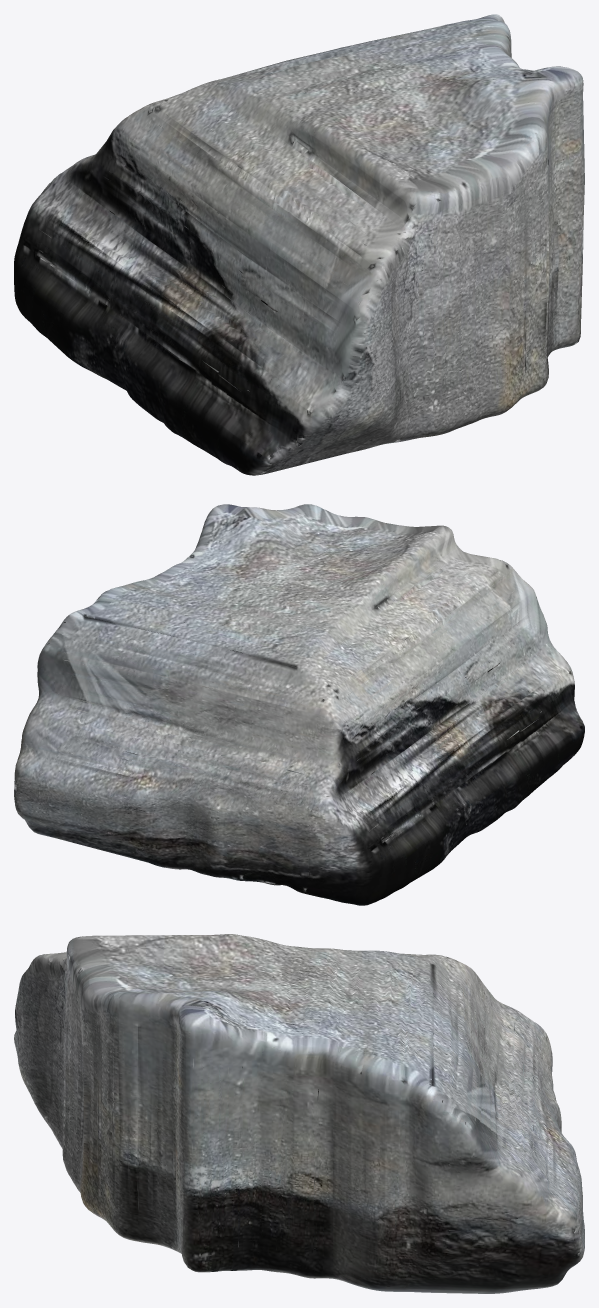
File: 07oclock.glb
3 renders of one model, top to bottom at view 1: azimuth 30°, elevation 25°; view 2: azimuth 150°, elevation 25°; view 3: azimuth 270°, elevation 25°, orthographic. The views are drawn at different scales.
Parts seen in each view (by area): view 1: Rock; view 2: Rock; view 3: Rock.
Boxes of the visible parts, x1=… form: Rock: x1=14, y1=14, x2=584, y2=475; Rock: x1=14, y1=504, x2=584, y2=905; Rock: x1=14, y1=934, x2=584, y2=1293.
Bounding box in the file's own units: 0.791 × 0.4823 × 0.9153.
Materials: 1 (1 with a texture image).
